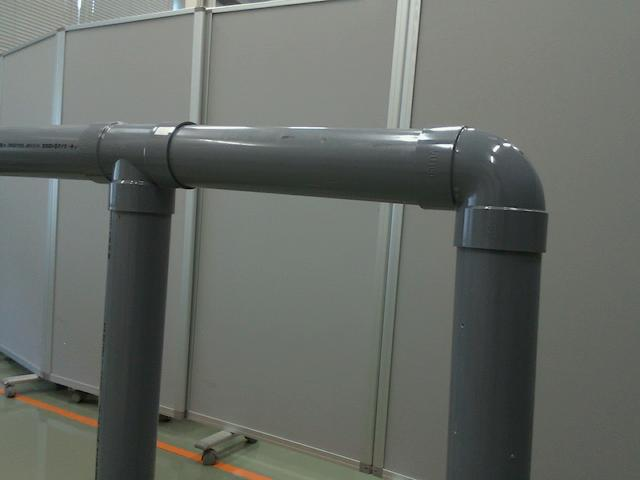bent: (411, 126, 544, 254)
junction: (79, 120, 197, 210)
